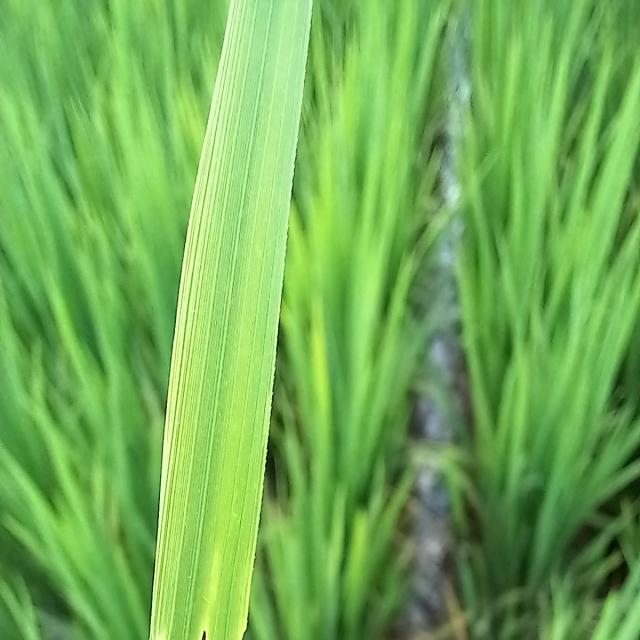HealthyLeaf: (151, 16, 310, 627)
